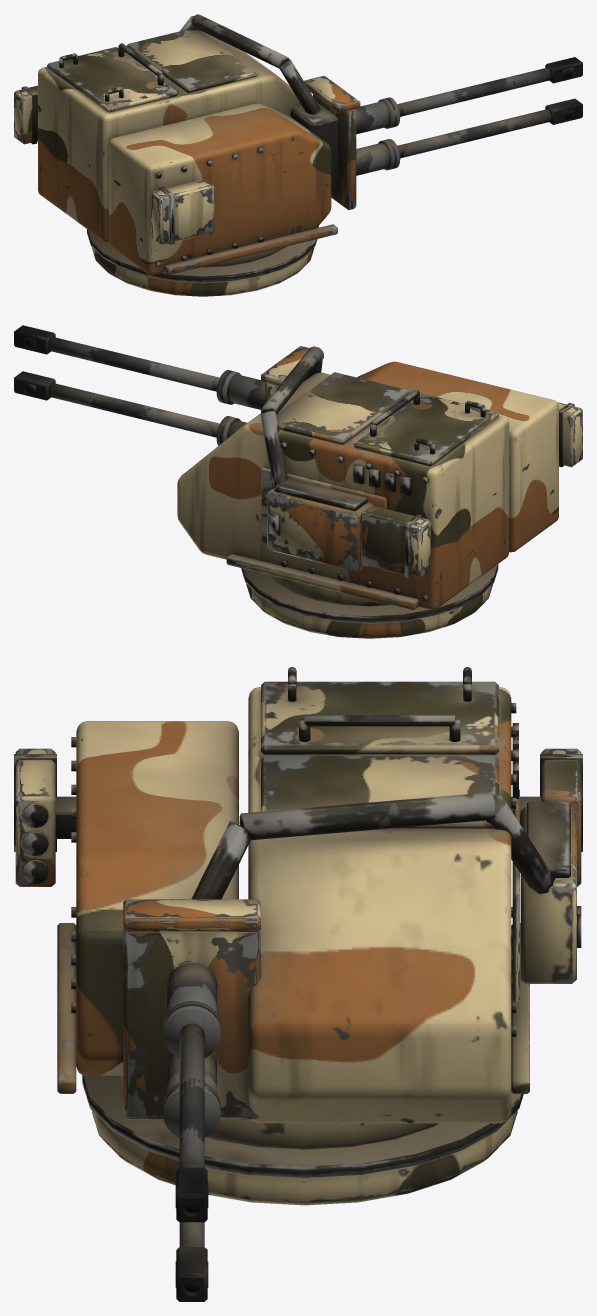
Rendered from turret_grach_t2.glb.
3 renders of one model, top to bottom at view 1: azimuth 30°, elevation 25°; view 2: azimuth 150°, elevation 25°; view 3: azimuth 270°, elevation 25°, orthographic. The views are drawn at different scales.
Parts seen in each view (by area): view 1: turret_light_t2, guns, pods; view 2: turret_light_t2, guns, pods; view 3: turret_light_t2, guns, pods.
Boxes of the visible parts, x1=… form: turret_light_t2: x1=38, y1=14, x2=337, y2=296; guns: x1=290, y1=57, x2=582, y2=210; pods: x1=14, y1=85, x2=214, y2=244; turret_light_t2: x1=177, y1=346, x2=558, y2=638; guns: x1=14, y1=325, x2=323, y2=445; pods: x1=360, y1=402, x2=582, y2=578; turret_light_t2: x1=57, y1=667, x2=581, y2=1205; guns: x1=123, y1=899, x2=260, y2=1301; pods: x1=14, y1=748, x2=582, y2=886.
Size of the model in its own units: 1.64 by 0.6416 by 0.9088.
3 materials, 3 textured.
